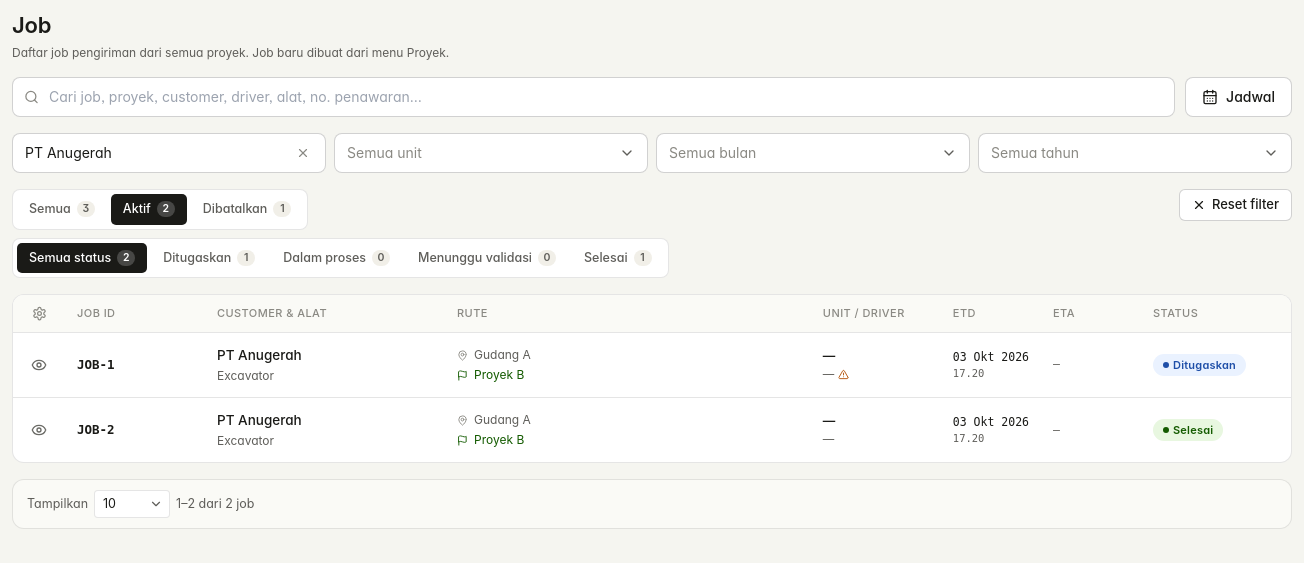
Scenario: daftar job › kelompok Semua tetap menampilkan job dibatalkan
What coordinates should you click on to do the following:
click the button "Semua 3"
I would click on:
 (62, 209)
Its box is [17,194,107,225].
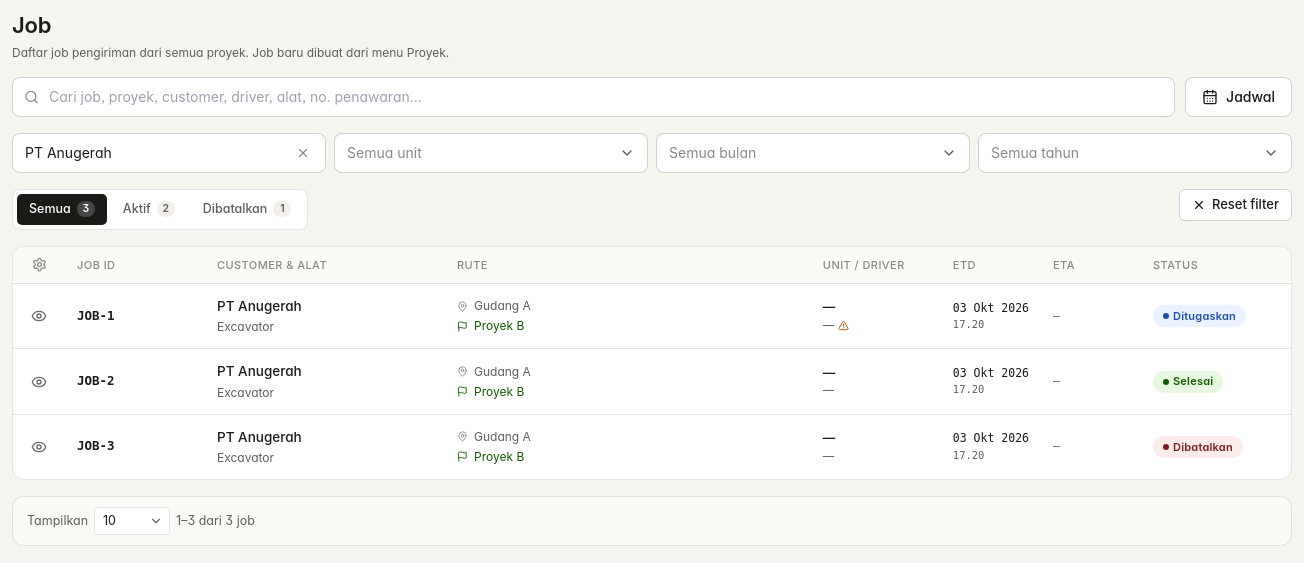
Now the text "JOB-3" is shown, box [77,438,115,453]
